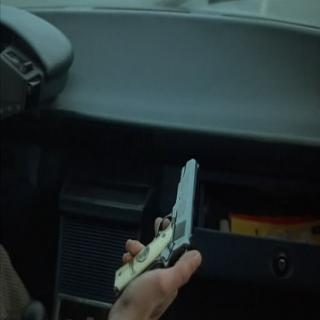gun: (113, 154, 201, 298)
